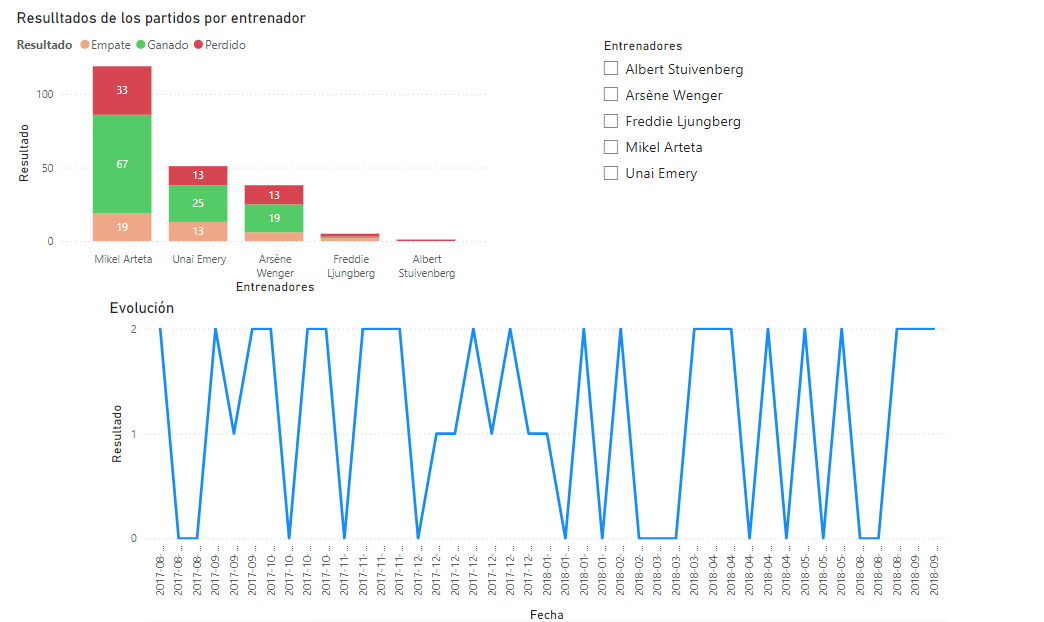

The dashboard page shown, as its layout file describes it:
{"tool":"powerbi","page":{"name":"Por entrenador","canvas":[1280,720],"ordinal":6},"visuals":[{"type":"columnChart","title":"Resulltados de los partidos por entrenador","fields":{"Category":["dwh dimarsenalmatches.Coach"],"Y":["CountNonNull(dwh dimarsenalmatches.Resultado)"],"Series":["dwh dimarsenalmatches.Resultado"]},"box":[65.2,18.4,533.6,322.2],"z":0},{"type":"lineChart","title":"Evolución","fields":{"Category":["dwh dimarsenalmatches.Date"],"Y":["Sum(dwh dimarsenalmatches.ResultadoNum)"]},"box":[168.9,341.1,942.2,371.1],"z":1000},{"type":"slicer","fields":{"Values":["dwh dimarsenalmatches.Coach"]},"box":[709.5,46.7,533.6,293.9],"z":2000}]}

Visuals, with their boxes on the page's 1280x720 design canvas (x1, y1, x2, y2). These are canvas units, not pixel positions in the 1044x622 screenshot, which may show the page scaled, cropped or inside an application window:
"Resulltados de los partidos por entrenador" columnChart: <box>65,18,599,341</box>
"Evolución" lineChart: <box>169,341,1111,712</box>
slicer - dwh dimarsenalmatches.Coach: <box>710,47,1243,341</box>
